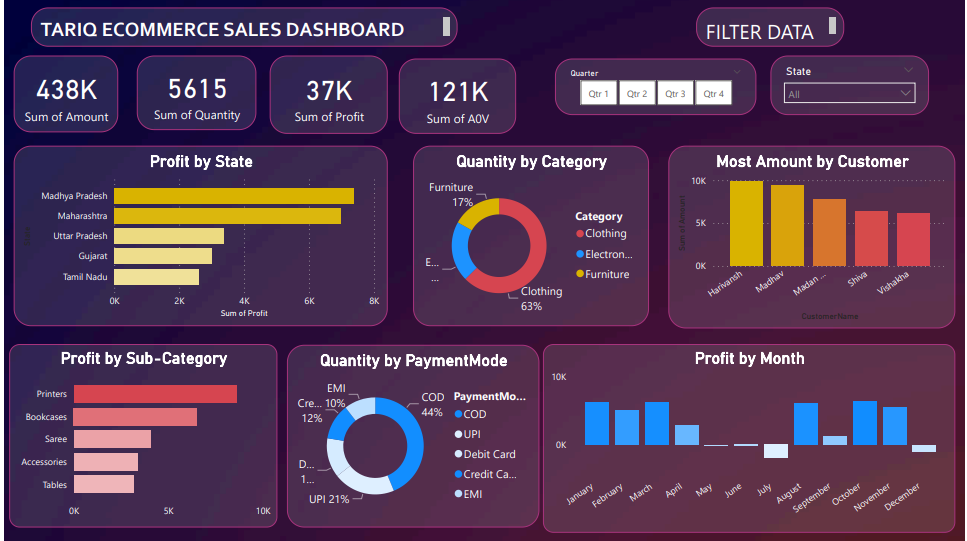

Layout of this report page (visuals, bound fields, positions):
{"tool":"powerbi","page":{"name":"Page 1","canvas":[1280,720],"ordinal":0},"visuals":[{"type":"columnChart","title":"Profit by Month","fields":{"Y":["Details.Profit"],"Category":["Orders.Order Date.Variation.Date Hierarchy.Month"]},"box":[718,457.9,548.9,251.1],"z":0},{"type":"clusteredBarChart","title":"Profit by Sub-Category","fields":{"Category":["Details.Sub-Category"],"Y":["Details.Profit"]},"box":[6.5,457.9,357.7,244.6],"z":1000},{"type":"donutChart","title":"Quantity by Category","fields":{"Category":["Details.Category"],"Y":["Details.Quantity"]},"box":[545,193.8,313.5,240.7],"z":2000},{"type":"donutChart","title":"Quantity by PaymentMode","fields":{"Category":["Details.PaymentMode","Details.Category"],"Y":["Details.Quantity"]},"box":[377.2,459.2,335.6,243.3],"z":3000},{"type":"card","fields":{"Values":["Details.Amount"]},"box":[13,74.1,139.2,101.5],"z":4000},{"type":"card","fields":{"Values":["Details.Quantity"]},"box":[176.9,74.1,158.7,98.9],"z":5000},{"type":"card","fields":{"Values":["Details.Profit"]},"box":[353.8,74.1,157.4,104.1],"z":6000},{"type":"card","fields":{"Values":["Details.A0V"]},"box":[525.5,78,156.1,100.2],"z":7000},{"type":"clusteredBarChart","title":"Profit by State","fields":{"Category":["Orders.State"],"Y":["Details.Profit"]},"box":[13,193.8,498.2,240.7],"z":8000},{"type":"columnChart","title":"Most Amount by Customer","fields":{"Category":["Orders.CustomerName"],"Y":["Details.Amount"]},"box":[884.6,193.8,382.4,243.3],"z":9000},{"type":"slicer","fields":{"Values":["Orders.Order Date.Variation.Date Hierarchy.Quarter"]},"box":[733.7,78,268,75.4],"z":10000},{"type":"slicer","fields":{"Values":["Orders.State"]},"box":[1021.1,74.1,210.7,79.3],"z":11000},{"type":"textbox","box":[36,10,568,52],"z":12000},{"type":"textbox","box":[922.3,10.4,196.4,52],"z":13000}]}

Visuals, with their boxes in screenshot pixels (x1, y1, x2, y2), scaled from the page's 1280x720 canvas onto the 967x541 screenshot:
"Profit by Month" columnChart: box(542, 344, 957, 533)
"Profit by Sub-Category" clusteredBarChart: box(5, 344, 275, 528)
"Quantity by Category" donutChart: box(412, 146, 649, 326)
"Quantity by PaymentMode" donutChart: box(285, 345, 538, 528)
card - Details.Amount: box(10, 56, 115, 132)
card - Details.Quantity: box(134, 56, 254, 130)
card - Details.Profit: box(267, 56, 386, 134)
card - Details.A0V: box(397, 59, 515, 134)
"Profit by State" clusteredBarChart: box(10, 146, 386, 326)
"Most Amount by Customer" columnChart: box(668, 146, 957, 328)
slicer - Orders.Order Date.Variation.Date Hierarchy.Quarter: box(554, 59, 757, 115)
slicer - Orders.State: box(771, 56, 931, 115)
textbox: box(27, 8, 456, 47)
textbox: box(697, 8, 845, 47)
